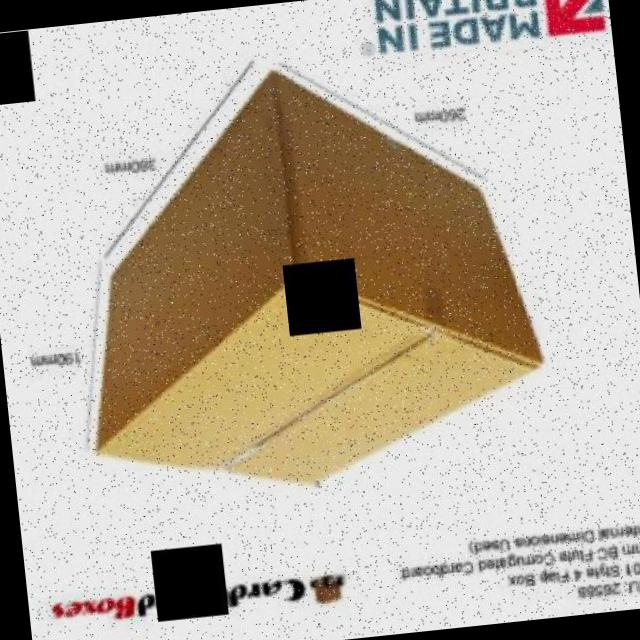box: (37, 25, 572, 518)
